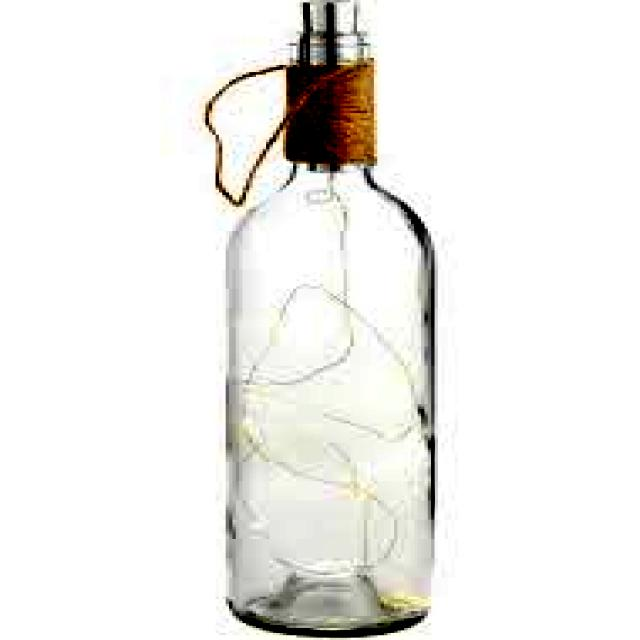Glass: (217, 0, 438, 640)
